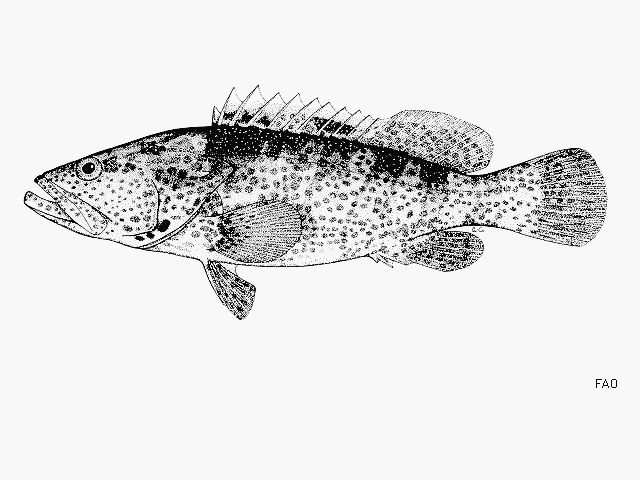fish: (23, 84, 609, 320)
